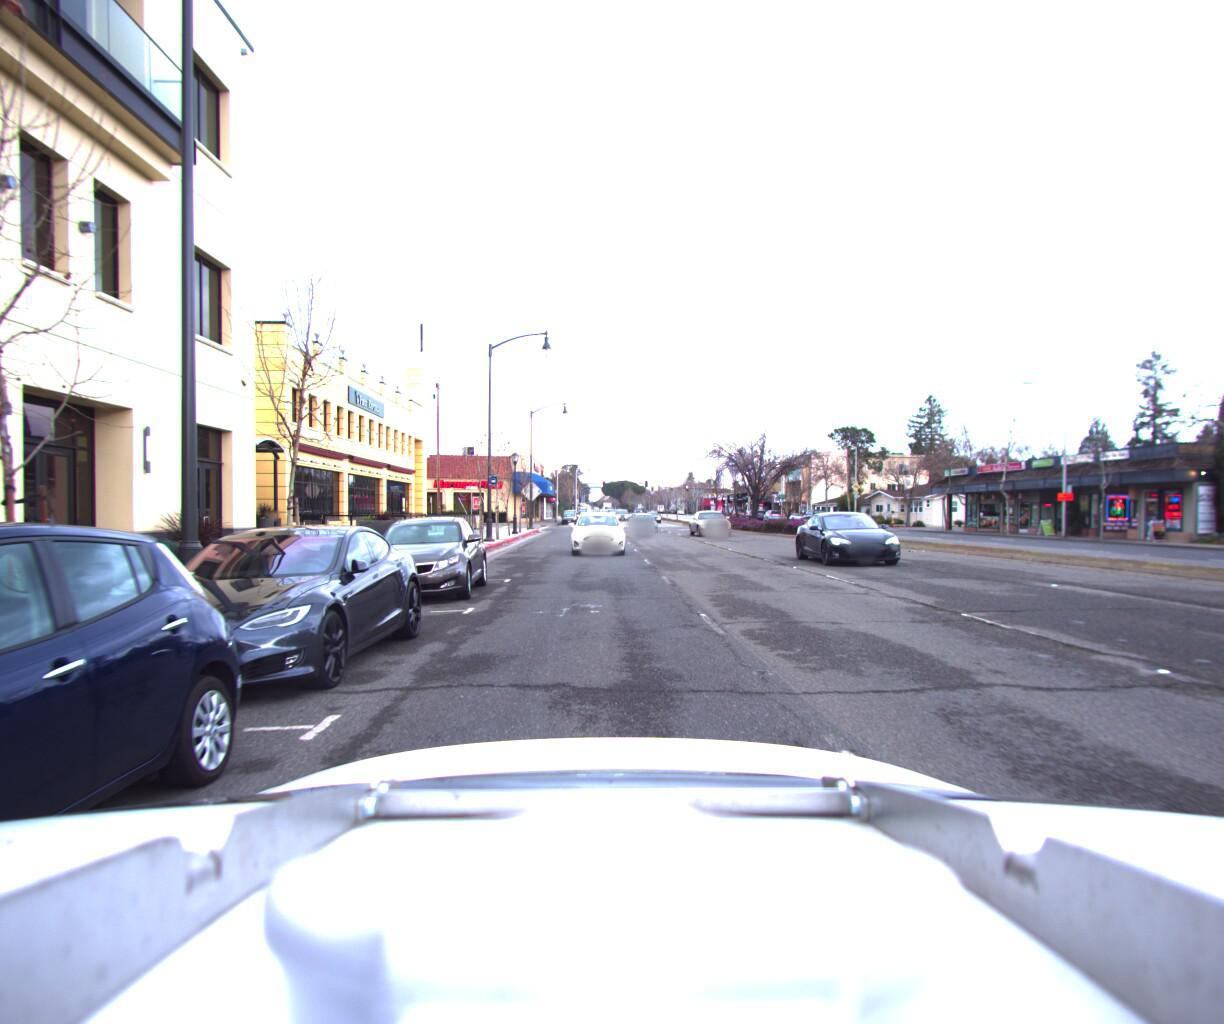car: (41, 520, 437, 715), (346, 513, 494, 608), (798, 506, 932, 567), (561, 501, 631, 554), (690, 506, 737, 534), (629, 508, 658, 530), (587, 501, 610, 522)
